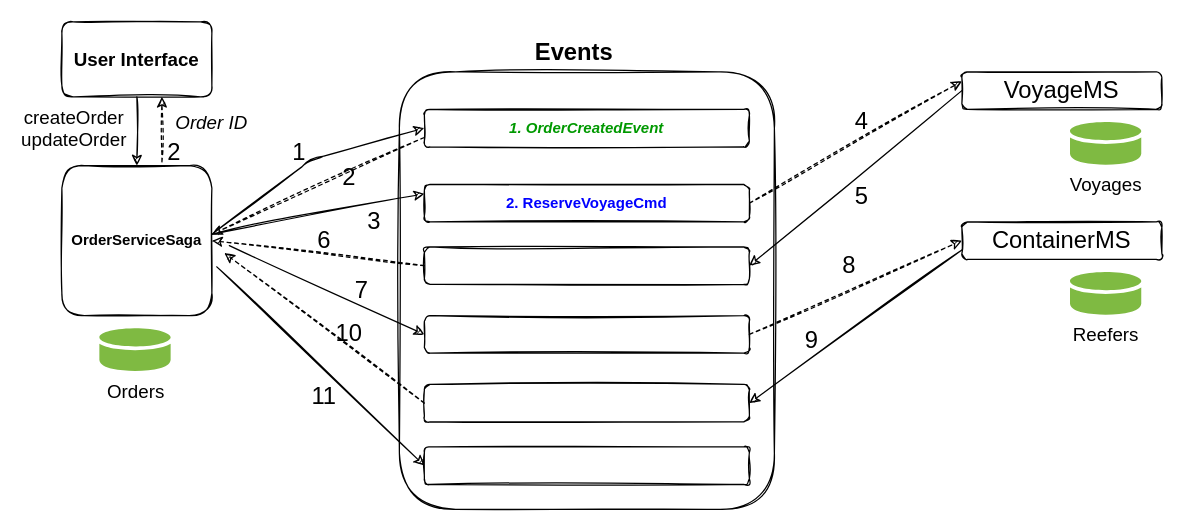
Some shapes in this 1184 by 531 pixel diagram are drawn without their labels. The centre of each missing label's shape, as x and y in pixels:
"3. VoyageAllocatedEven t" goes at pixel 586 265.
"4. ReserveReeferCmd" goes at pixel 586 333.
"5. ReeferReservedEvent" goes at pixel 586 402.
"6. OrderAssignedEvent" goes at pixel 586 465.
